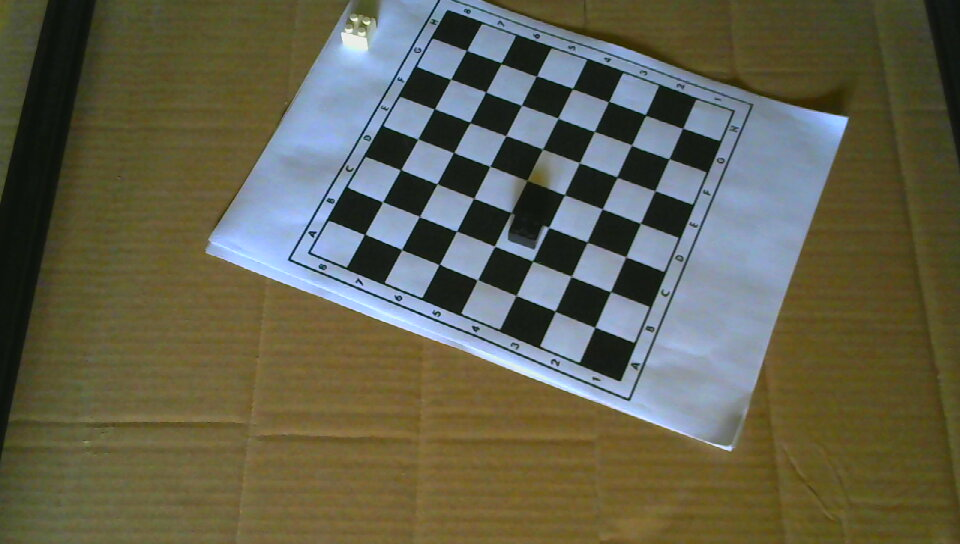bp: (509, 209, 543, 249)
wp: (340, 11, 377, 50)
